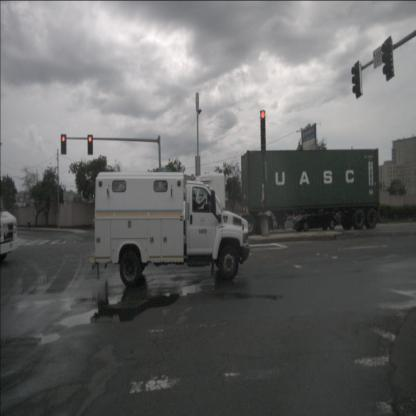vehicle-car: (292, 208, 337, 232)
vehicle-truck: (94, 171, 250, 288), (176, 172, 274, 238)
